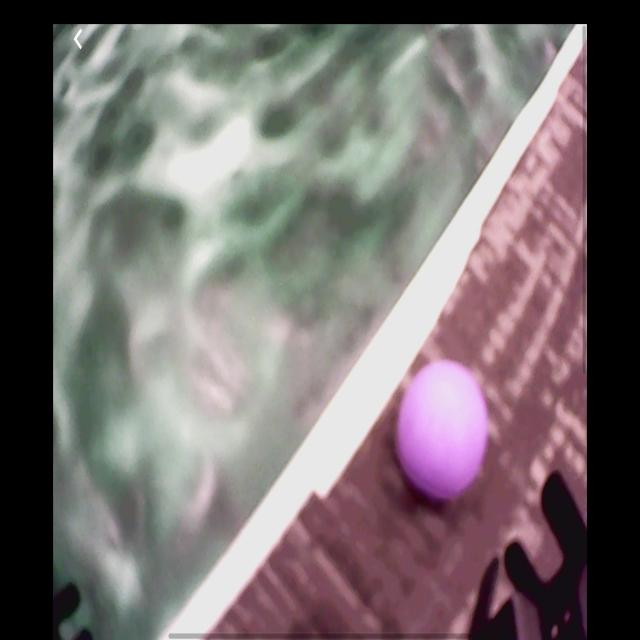ball: (398, 360, 488, 503)
